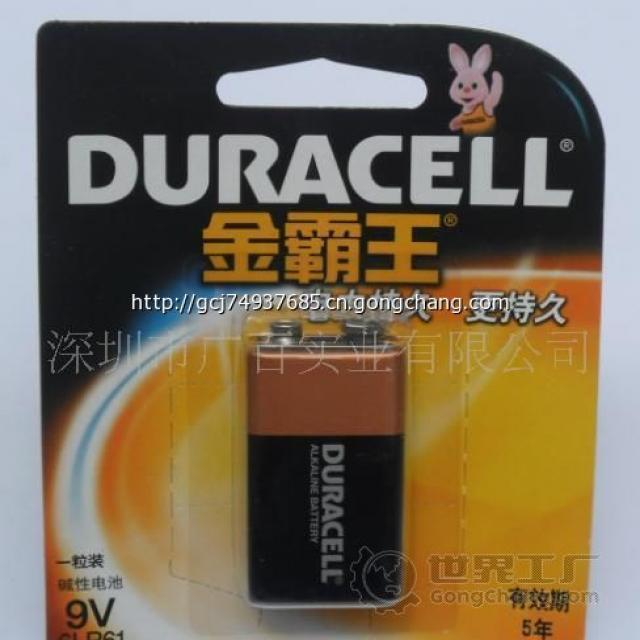Hazard: (250, 319, 408, 613)
